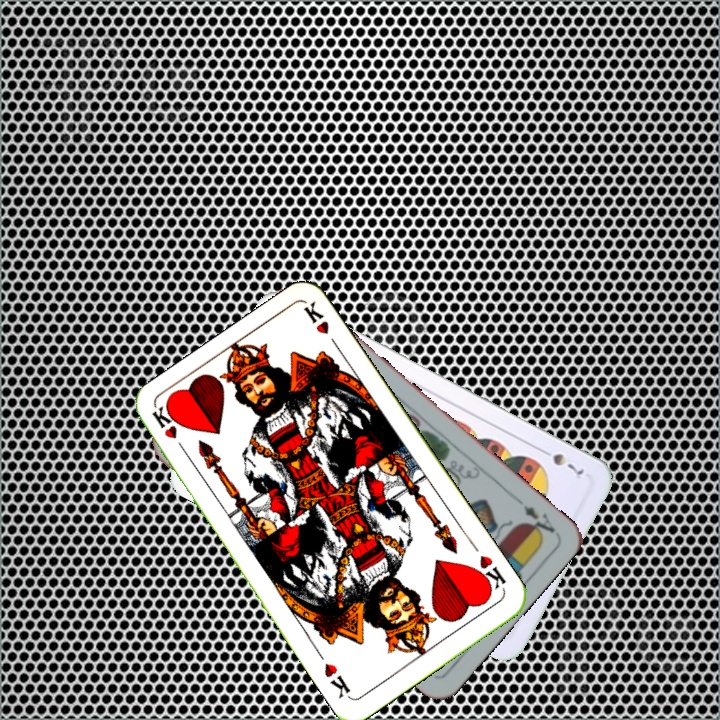EA: (511, 493, 558, 540)
HK: (148, 403, 191, 458), (470, 551, 509, 596)
S7: (535, 444, 587, 478)
